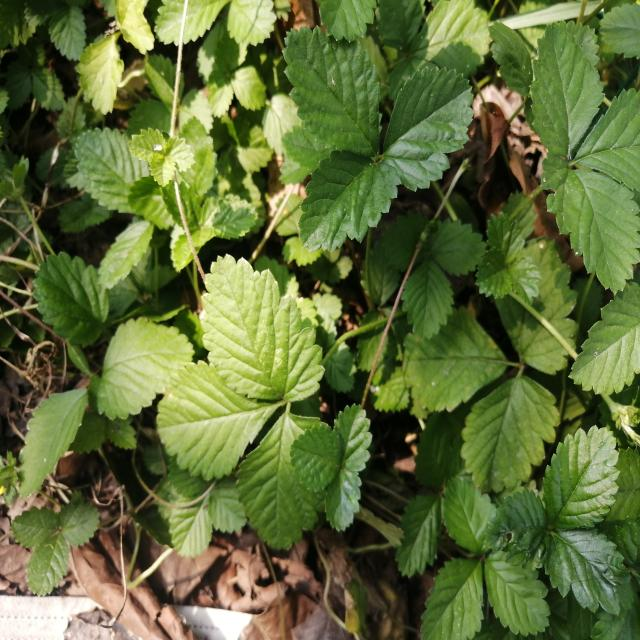Mock_strawberry: (158, 267, 362, 524)
